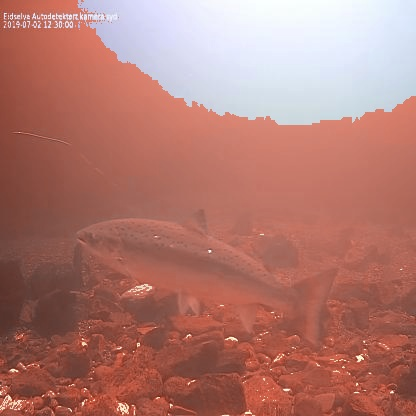salmon: (74, 206, 342, 353)
